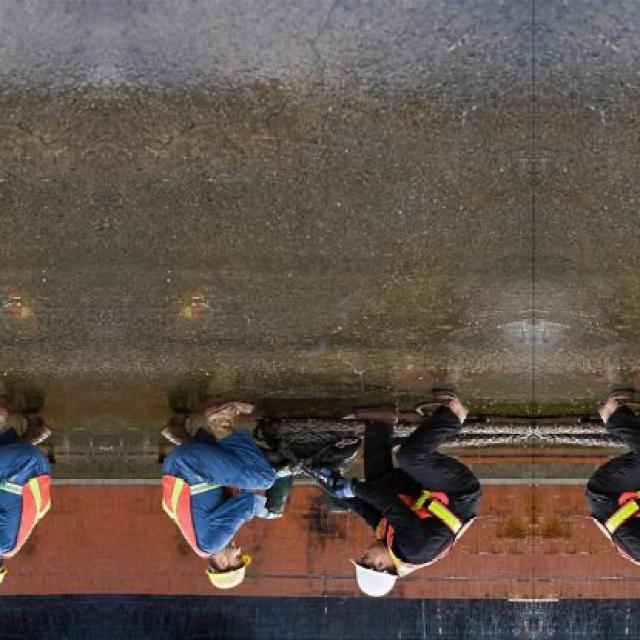con casco: (326, 522, 430, 601), (182, 531, 273, 605)
